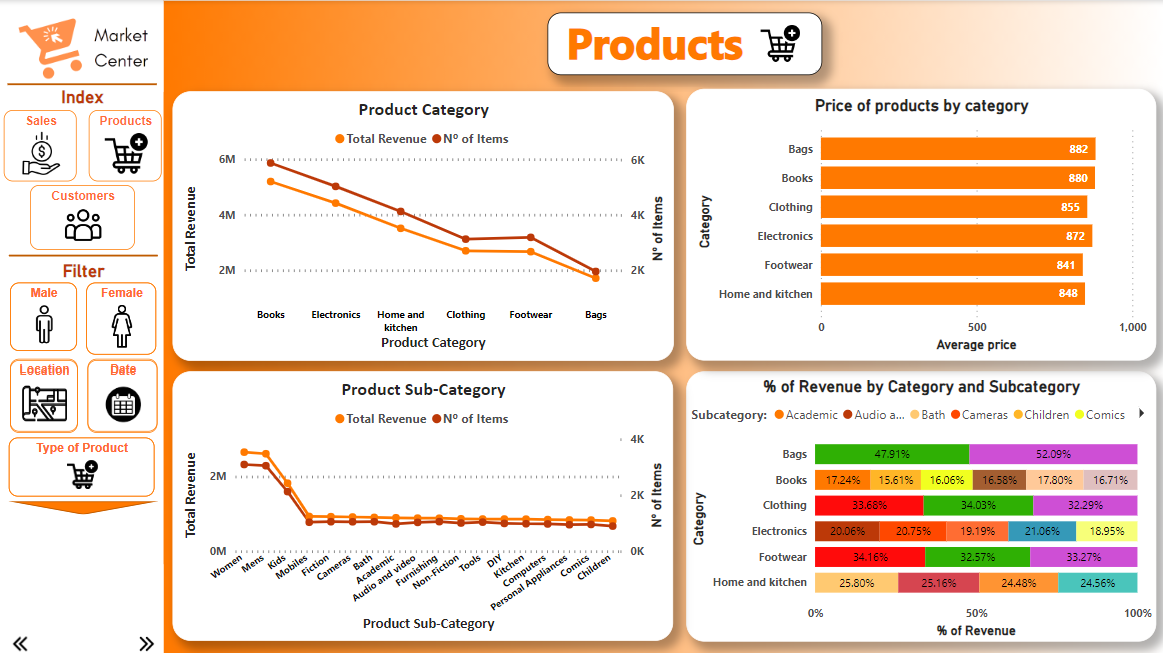

Layout of this report page (visuals, bound fields, positions):
{"tool":"powerbi","page":{"name":"Products","canvas":[1280,720],"ordinal":1},"visuals":[{"type":"image","box":[180,0.4,1100,620],"z":0},{"type":"textbox","title":"Products","box":[601.4,14.3,301.4,68.6],"z":1000},{"type":"textbox","box":[46.8,90.1,87.7,33.5],"z":2000},{"type":"image","box":[0,0,183.9,97.5],"z":3000},{"type":"shape","box":[8.3,85.2,163.9,14.8],"z":4000},{"type":"image","title":"Sales","box":[4.2,120.1,80.3,78.1],"z":5000},{"type":"textbox","box":[48.1,280.8,87.7,33.8],"z":6000},{"type":"image","title":"Products","box":[96.8,120.1,80,78.1],"z":7000},{"type":"image","title":"Customers","box":[32.9,202.4,115.2,71.3],"z":8000},{"type":"shape","box":[10,273.4,163.8,15],"z":9000},{"type":"image","box":[140.5,688.9,43.2,31.1],"z":10000},{"type":"image","box":[0,688.9,44.2,31.1],"z":11000},{"type":"image","title":"Male","box":[11,310.5,73.5,75.5],"z":12000},{"type":"image","title":"Male","box":[11.4,310.6,73.7,75.4],"z":13000},{"type":"image","title":"Female","box":[94.5,310.5,77,79],"z":14000},{"type":"image","title":"Female","box":[94.5,310.5,77,79],"z":15000},{"type":"image","title":"Location","box":[10.5,394.5,74.5,80],"z":16000},{"type":"image","title":"Location","box":[10.6,394.6,74.6,80],"z":17000},{"type":"image","box":[180,100,1100,620],"z":18000},{"type":"image","title":"Date","box":[96.5,394.5,77,80],"z":19000},{"type":"image","title":"Date","box":[96.6,394.6,76.9,80],"z":20000},{"type":"shape","box":[10,550.5,163.7,14.7],"z":21000},{"type":"image","box":[830,17.1,52.9,62.9],"z":22000},{"type":"image","title":"Type of Product","box":[10,480,160,65],"z":23000},{"type":"image","title":"Type of Product","box":[10,480,160,65],"z":24000},{"type":"hundredPercentStackedBarChart","title":"% of Revenue by Category and Subcategory","fields":{"Series":["temp1671068008898978552.prod_subcat"],"Category":["temp1671068008898978552.prod_cat"],"Y":["Sum(temp1671068008898978552.total_amt)"]},"box":[752.9,407.1,515.7,297.1],"z":28000},{"type":"lineChart","title":"Product Category","fields":{"Y":["Sum(temp1671068008898978552.total_amt)"],"Category":["temp1671068008898978552.prod_cat"],"Y2":["Sum(temp1671068008898978552.Qty)"]},"box":[190,100,550,295.7],"z":29000},{"type":"lineChart","title":" Product Sub-Category","fields":{"Y":["Sum(temp1671068008898978552.total_amt)"],"Y2":["Sum(temp1671068008898978552.Qty)"],"Category":["temp1671068008898978552.prod_subcat"]},"box":[189.4,407.8,549.6,296.3],"z":30000},{"type":"barChart","title":"Price of products by category","fields":{"Category":["temp1671068008898978552.prod_cat"],"Y":["Avg(temp1671068008898978552.Unit_price)"]},"box":[752.9,97.1,515.7,298.6],"z":32000}]}

Visuals, with their boxes in screenshot pixels (x1, y1, x2, y2), scaled from the page's 1280x720 canvas onto the 1163x653 screenshot:
image: x1=164 y1=0 x2=1162 y2=563
"Products" textbox: x1=546 y1=13 x2=820 y2=75
textbox: x1=43 y1=82 x2=122 y2=112
image: x1=0 y1=0 x2=167 y2=88
shape: x1=8 y1=77 x2=156 y2=91
"Sales" image: x1=4 y1=109 x2=77 y2=180
textbox: x1=44 y1=255 x2=123 y2=285
"Products" image: x1=88 y1=109 x2=161 y2=180
"Customers" image: x1=30 y1=184 x2=135 y2=248
shape: x1=9 y1=248 x2=158 y2=262
image: x1=128 y1=625 x2=167 y2=652
image: x1=0 y1=625 x2=40 y2=652
"Male" image: x1=10 y1=282 x2=77 y2=350
"Male" image: x1=10 y1=282 x2=77 y2=350
"Female" image: x1=86 y1=282 x2=156 y2=353
"Female" image: x1=86 y1=282 x2=156 y2=353
"Location" image: x1=10 y1=358 x2=77 y2=430
"Location" image: x1=10 y1=358 x2=77 y2=430
image: x1=164 y1=91 x2=1162 y2=652
"Date" image: x1=88 y1=358 x2=158 y2=430
"Date" image: x1=88 y1=358 x2=158 y2=430
shape: x1=9 y1=499 x2=158 y2=513
image: x1=754 y1=16 x2=802 y2=73
"Type of Product" image: x1=9 y1=435 x2=154 y2=494
"Type of Product" image: x1=9 y1=435 x2=154 y2=494
"% of Revenue by Category and Subcategory" hundredPercentStackedBarChart: x1=684 y1=369 x2=1153 y2=639
"Product Category" lineChart: x1=173 y1=91 x2=672 y2=359
" Product Sub-Category" lineChart: x1=172 y1=370 x2=671 y2=639
"Price of products by category" barChart: x1=684 y1=88 x2=1153 y2=359
